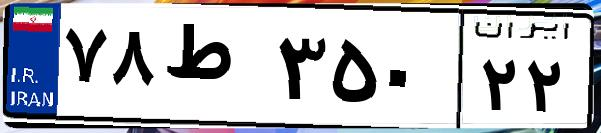0: (385, 28, 445, 110)
2: (475, 38, 525, 113), (525, 38, 570, 115)
3: (270, 28, 330, 110)
5: (330, 28, 385, 110)
7: (57, 26, 110, 100)
8: (110, 28, 158, 98)
ط: (158, 20, 270, 120)
